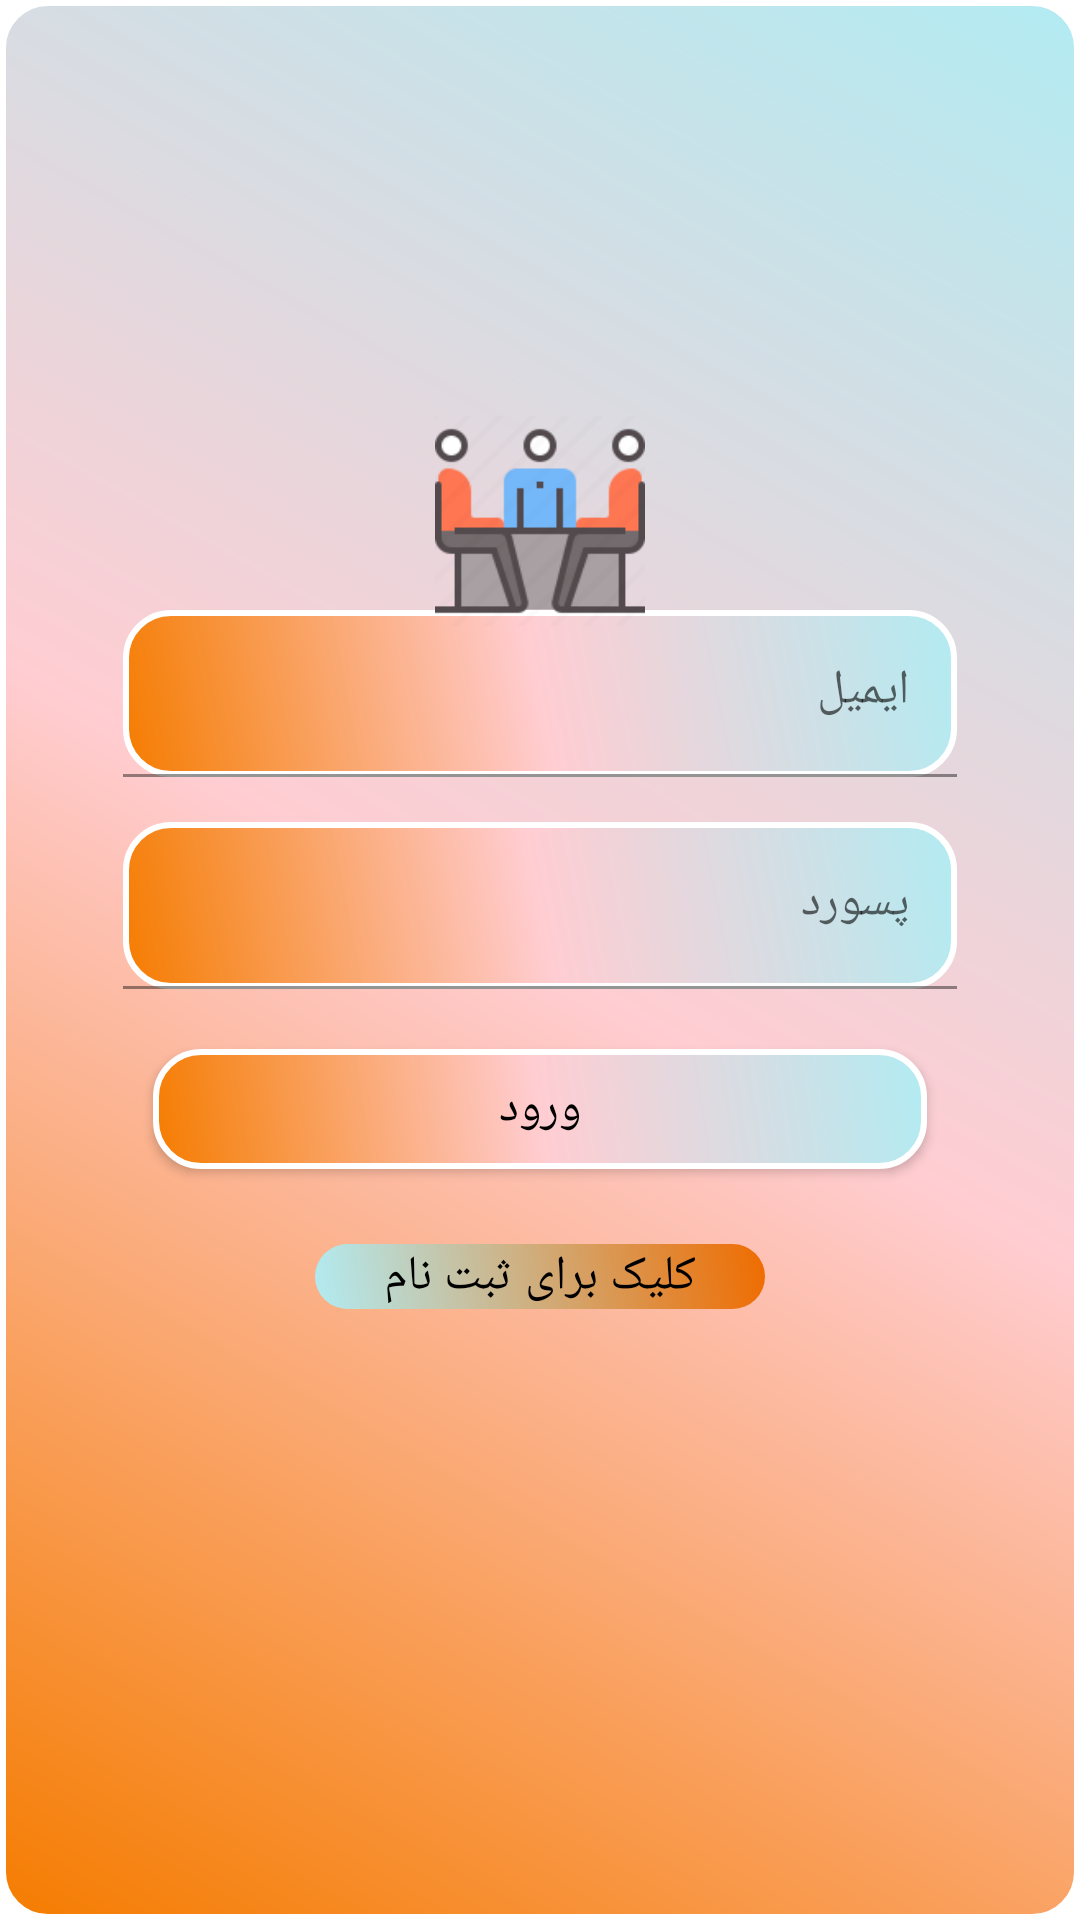

Screen size 1080px×1920px. Icon name, then its center in pixels as point (x, y):
meet: point (540, 550)
